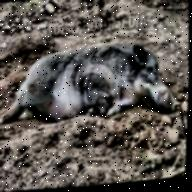boar: (6, 23, 186, 144)
